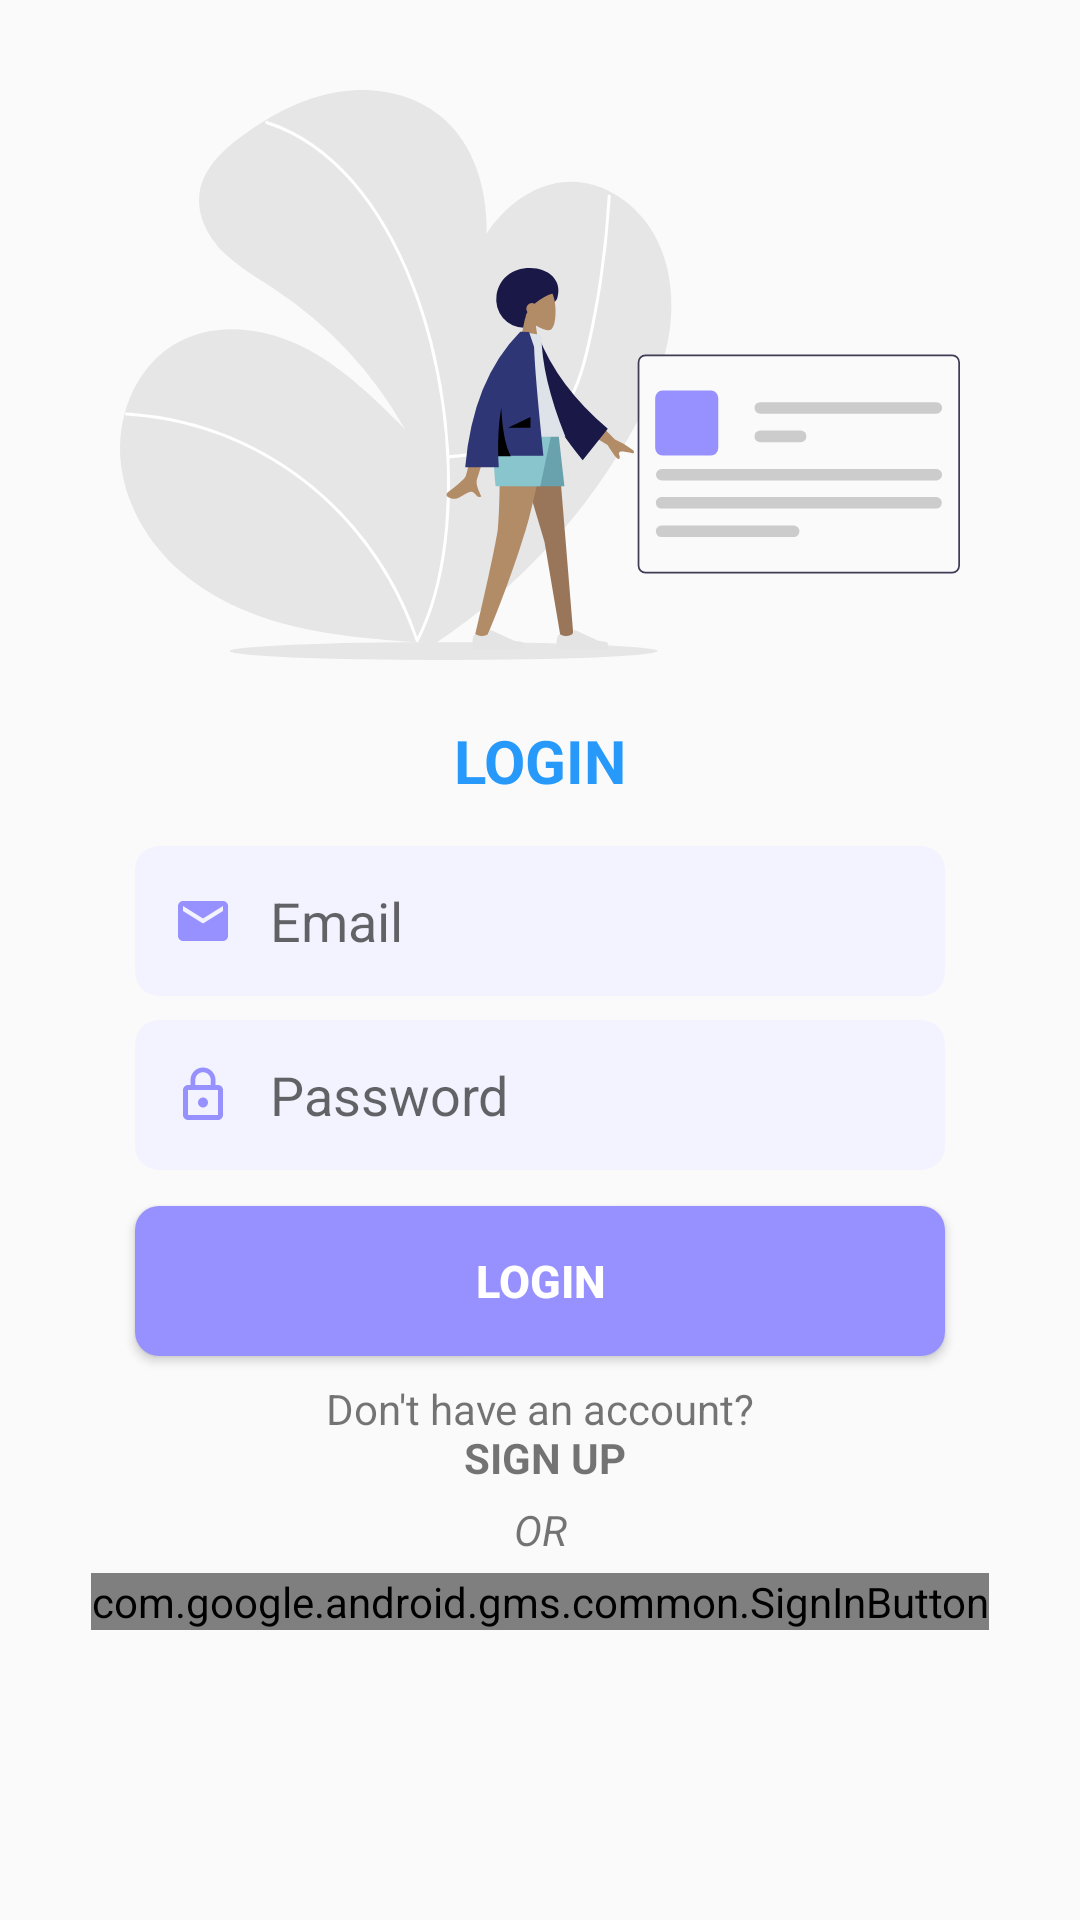

Icon bounding boxes for this 1080x1920 phone screenshot, format (x1, y1, x2, y2):
lock: (183, 1067, 223, 1120)
